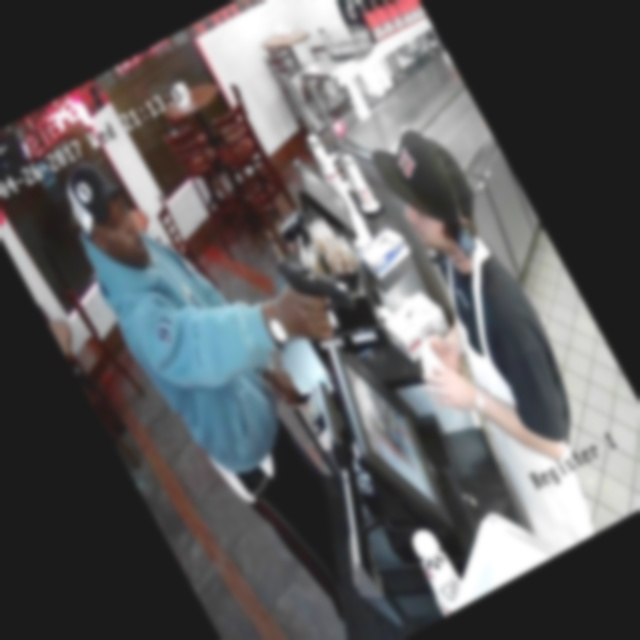gun: (251, 226, 375, 362)
